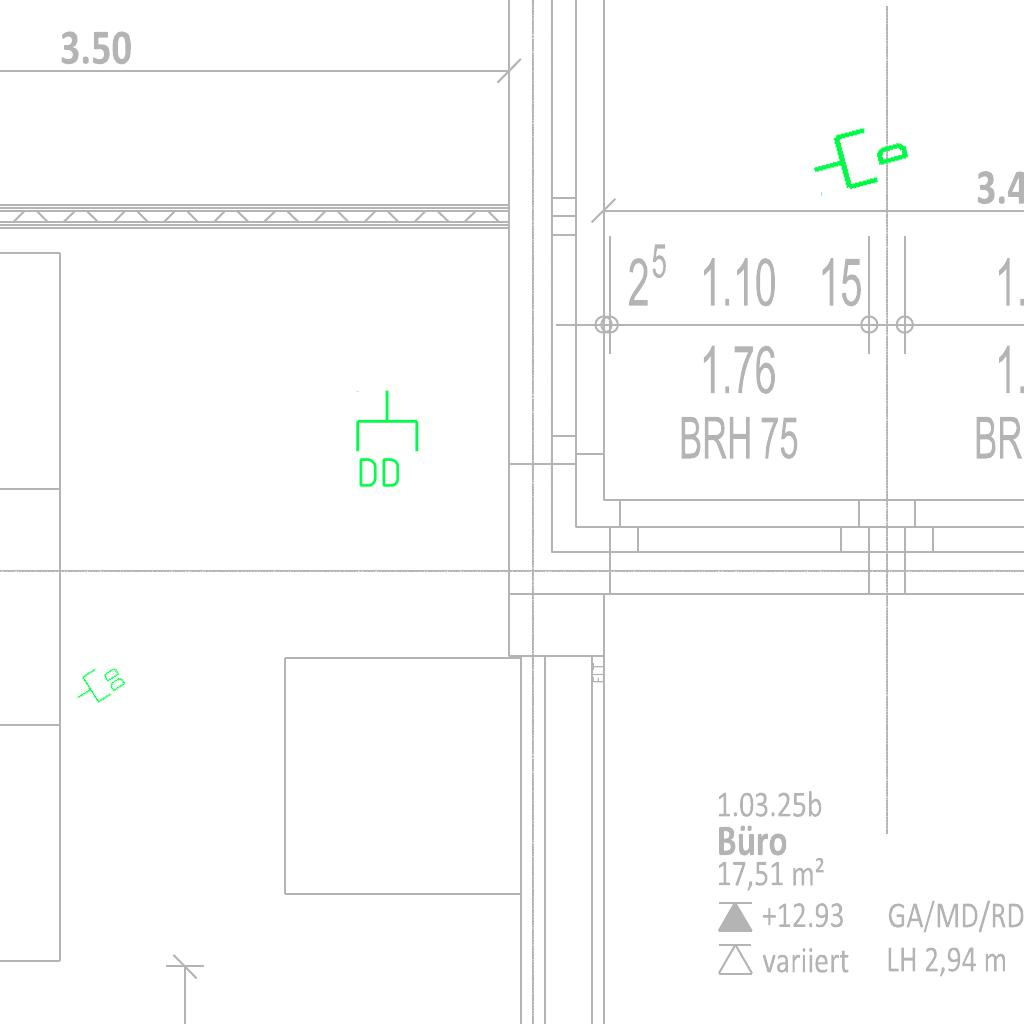Datenanschluss_einfach: (802, 109, 917, 203)
Datenanschluss_zweifach: (352, 388, 421, 491), (67, 657, 130, 713)
